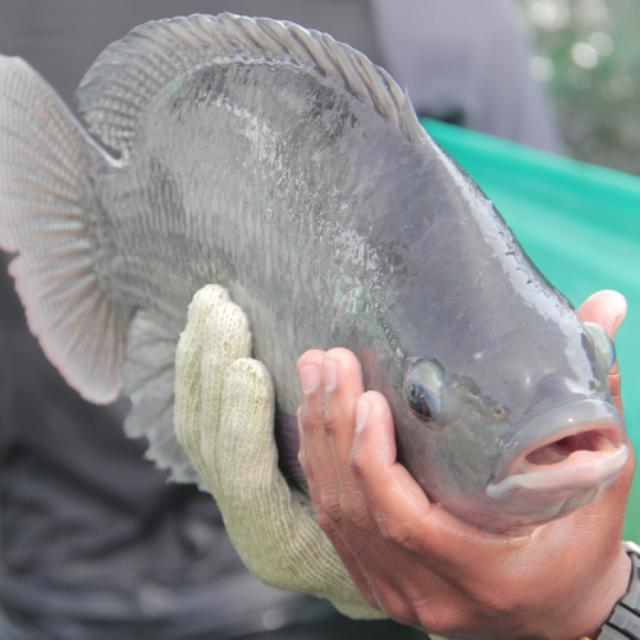Mulut: (460, 384, 640, 534)
Sirip Anal: (104, 286, 236, 502)
Sirip Ekor: (0, 34, 136, 436)
Sirip Punggung: (64, 2, 442, 166)
